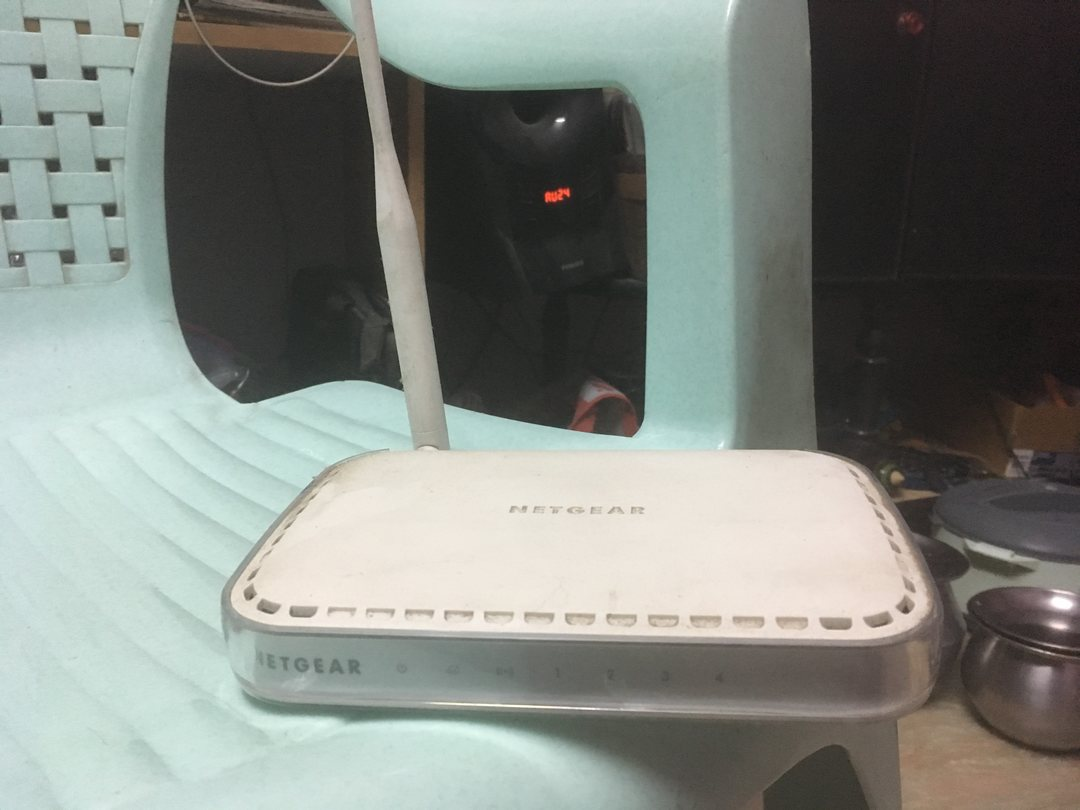NETGEAR: (248, 641, 366, 688)
modem: (222, 609, 949, 724)
